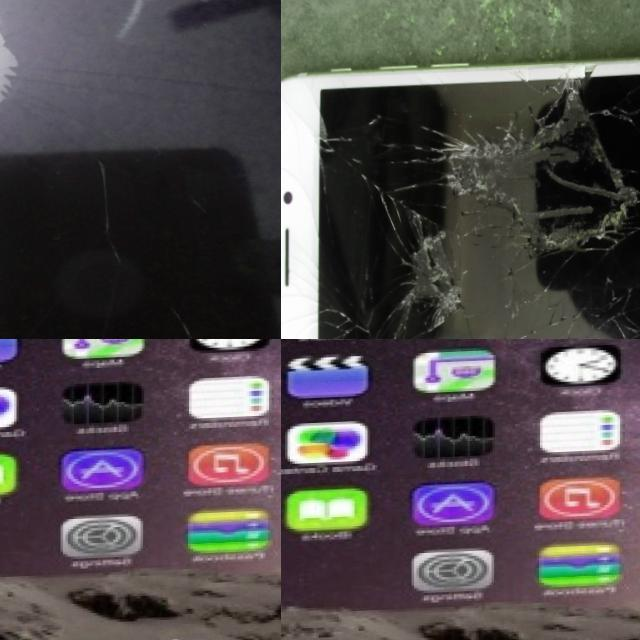screen crack: (314, 63, 640, 339), (0, 0, 217, 162)
